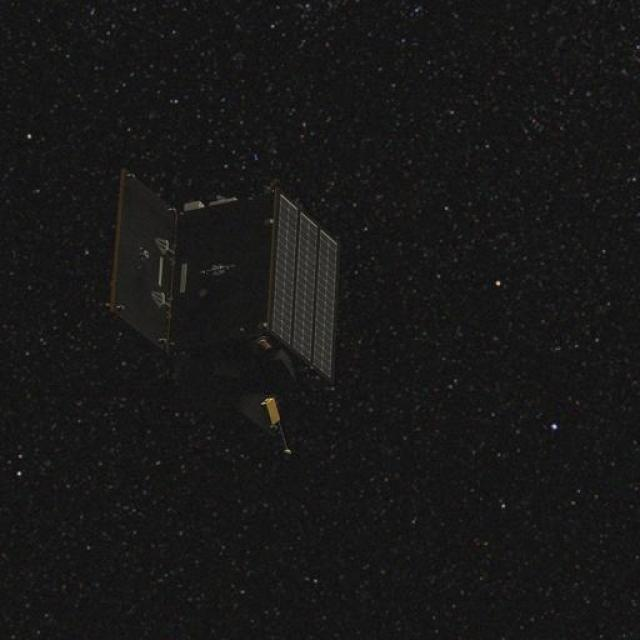proba_2: (92, 155, 372, 468)
